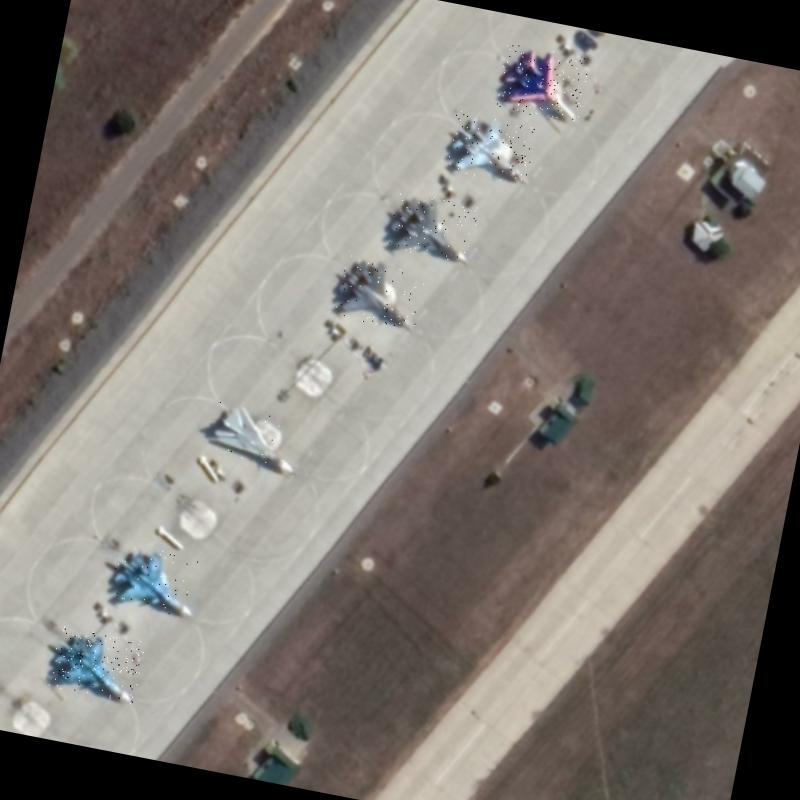A1: (494, 42, 590, 124), (333, 252, 427, 332), (445, 110, 538, 186)
A19: (46, 625, 146, 705), (106, 540, 204, 620), (386, 188, 480, 266)
A20: (206, 399, 306, 474)
